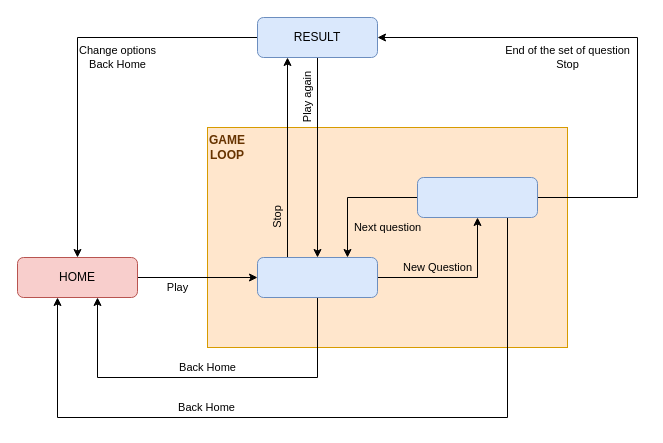
This 663x443 diagram has some shape labels left out. Each missing label, with the centre of its shape:
"DICE" goes at point (317, 277).
"QUIZZ" goes at point (477, 197).
